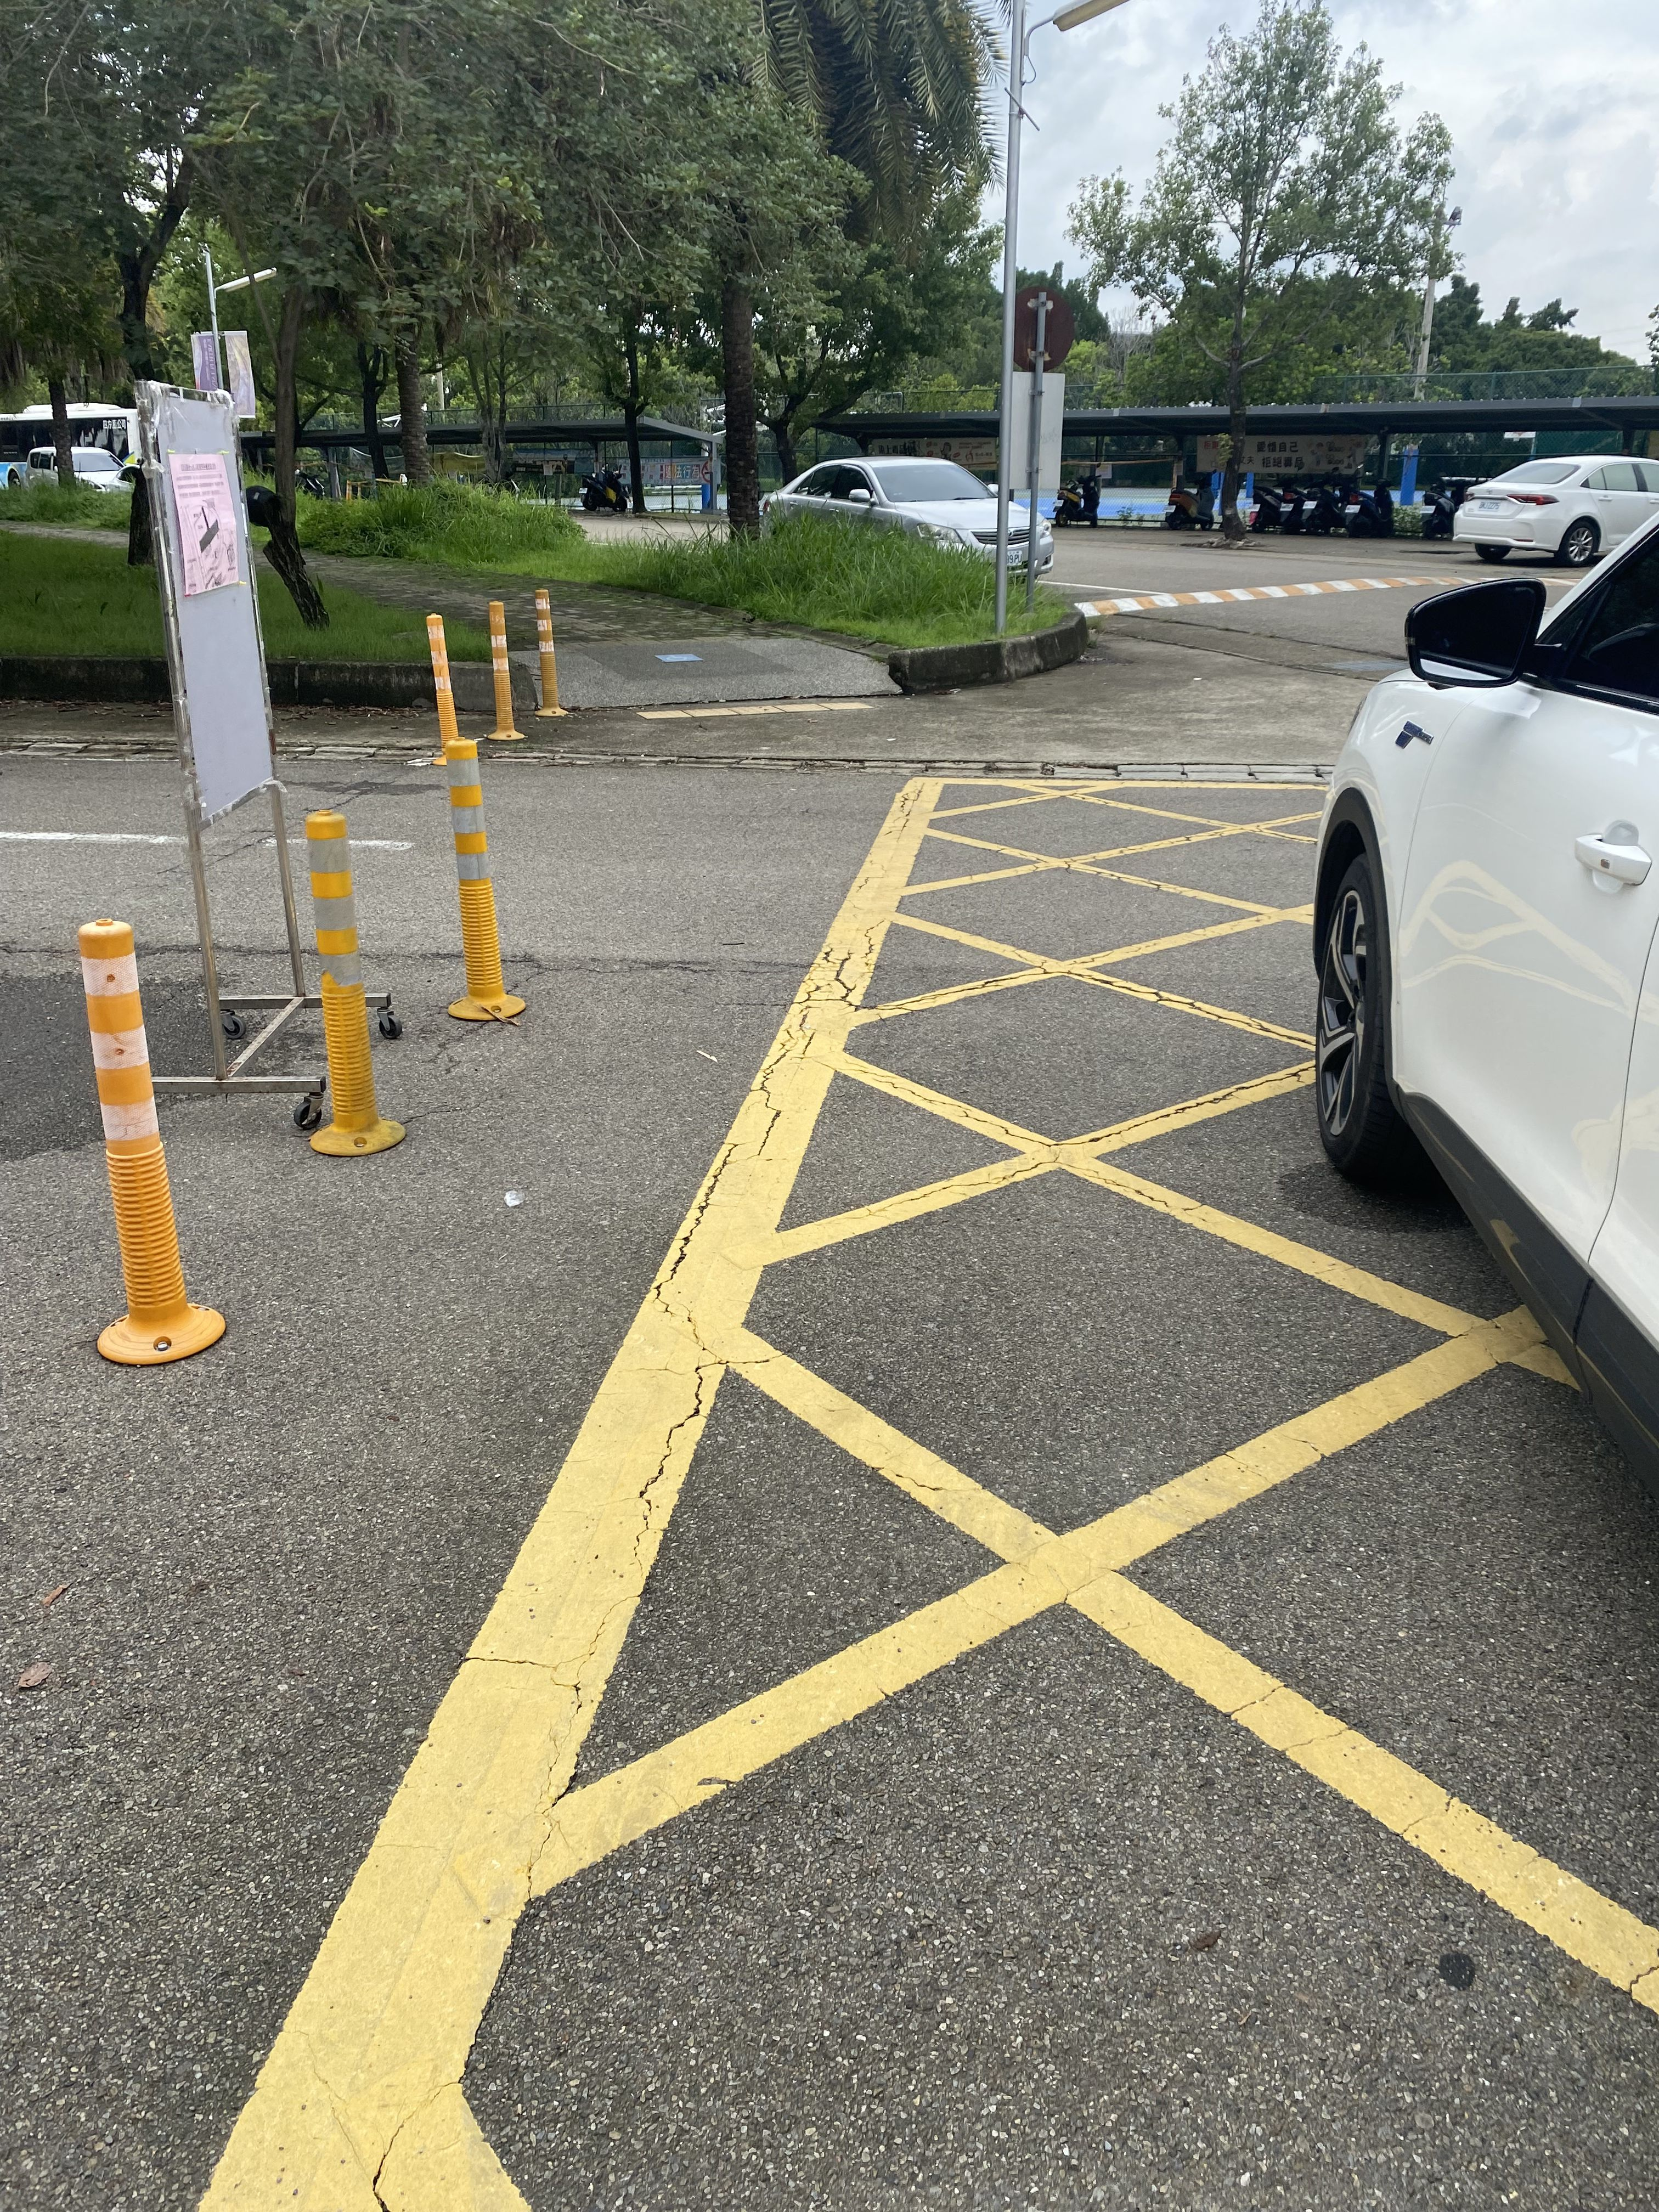sidewalk: (349, 545, 903, 721)
